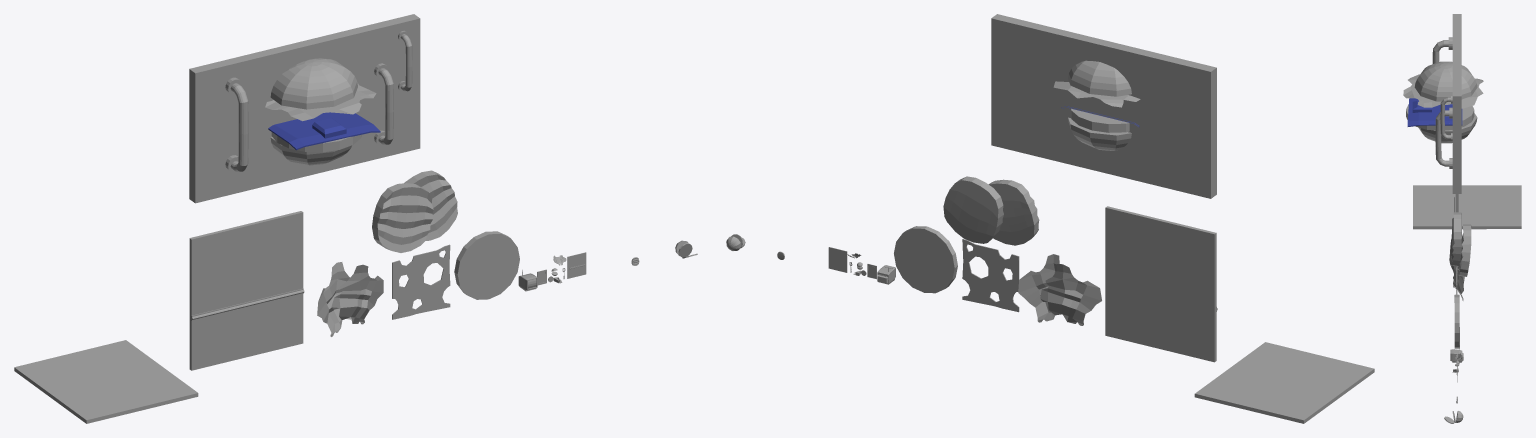
The model's file is Pickle.obj.
3 views of the same model, side by side, from view 1: azimuth 30°, elevation 25°; view 2: azimuth 150°, elevation 25°; view 3: azimuth 270°, elevation 25° (orthographic). The views are drawn at different scales.
Visible parts, largest first — view 1: Cylinder.012_Cylinder.026, Cube.001_Cube.021, Cube.004_Cube.031, Sphere.000_Sphere.010, Cylinder.004_Cylinder.008, Cylinder.001_Cylinder.006, Plane.002_Plane.012, Plane.004_Plane.011; view 2: Cylinder.012_Cylinder.026, Cube.001_Cube.021, Cube.004_Cube.031, Cylinder.004_Cylinder.008, Sphere.000_Sphere.010, Plane.002_Plane.012, Cylinder.001_Cylinder.006, Plane.004_Plane.011; view 3: Cube.004_Cube.031, Sphere.000_Sphere.010, Cylinder.012_Cylinder.026, Cylinder.004_Cylinder.008, Cylinder.001_Cylinder.006, Plane.002_Plane.012, Cube_Cube.018, Cylinder.002_Cylinder.004.
Boxes of the visible parts, left/top/right/bottom form: Cylinder.012_Cylinder.026: left=189, top=14, right=420, bottom=203; Cube.001_Cube.021: left=189, top=211, right=304, bottom=370; Cube.004_Cube.031: left=14, top=340, right=198, bottom=423; Sphere.000_Sphere.010: left=265, top=58, right=380, bottom=165; Cylinder.004_Cylinder.008: left=372, top=170, right=457, bottom=252; Cylinder.001_Cylinder.006: left=454, top=231, right=519, bottom=299; Plane.002_Plane.012: left=317, top=262, right=383, bottom=336; Plane.004_Plane.011: left=392, top=244, right=450, bottom=319; Cylinder.012_Cylinder.026: left=991, top=14, right=1216, bottom=198; Cube.001_Cube.021: left=1105, top=206, right=1217, bottom=362; Cube.004_Cube.031: left=1194, top=342, right=1374, bottom=423; Cylinder.004_Cylinder.008: left=943, top=176, right=1039, bottom=245; Sphere.000_Sphere.010: left=1053, top=60, right=1140, bottom=150; Plane.002_Plane.012: left=1018, top=254, right=1101, bottom=325; Cylinder.001_Cylinder.006: left=894, top=226, right=957, bottom=293; Plane.004_Plane.011: left=962, top=239, right=1019, bottom=312; Cube.004_Cube.031: left=1413, top=185, right=1521, bottom=229; Sphere.000_Sphere.010: left=1403, top=61, right=1483, bottom=143; Cylinder.012_Cylinder.026: left=1432, top=14, right=1461, bottom=193; Cylinder.004_Cylinder.008: left=1449, top=212, right=1471, bottom=276; Cylinder.001_Cylinder.006: left=1454, top=294, right=1459, bottom=348; Plane.002_Plane.012: left=1449, top=253, right=1464, bottom=300; Cube_Cube.018: left=1450, top=342, right=1463, bottom=362; Cylinder.002_Cylinder.004: left=1444, top=411, right=1463, bottom=423.
Size of the model in its own units: 545 by 250 by 117.
